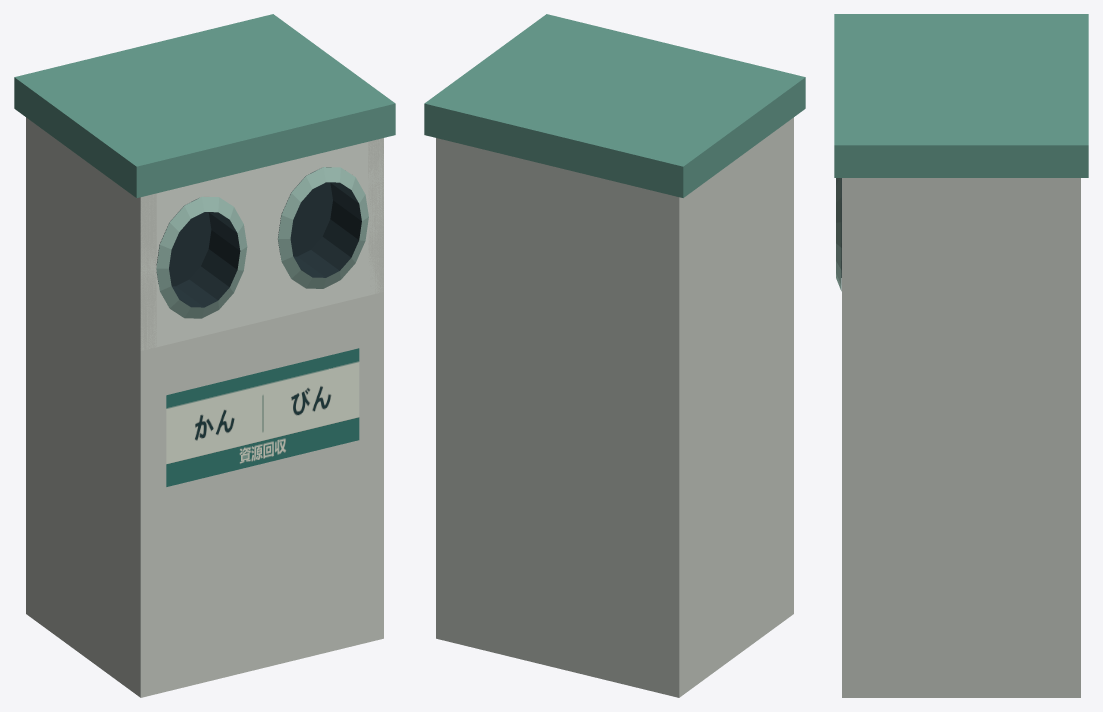
Rendered from prop-recycle-bin.glb.
The picture shows the model from 3 angles, left to right: view 1: azimuth 30°, elevation 25°; view 2: azimuth 150°, elevation 25°; view 3: azimuth 270°, elevation 25°; orthographic projection. The views are drawn at different scales.
Parts seen in each view (by area): view 1: bin-body, bin-lid, bin-panel, bin-label, bin-wells, bin-rims; view 2: bin-body, bin-lid; view 3: bin-body, bin-lid, bin-rims.
Boxes of the visible parts, bbox=[...] form: bin-body: bbox=[26, 117, 383, 697]; bin-lid: bbox=[14, 14, 395, 197]; bin-panel: bbox=[140, 138, 383, 350]; bin-label: bbox=[166, 348, 359, 486]; bin-wells: bbox=[156, 170, 361, 307]; bin-rims: bbox=[156, 167, 368, 318]; bin-body: bbox=[436, 117, 793, 697]; bin-lid: bbox=[424, 14, 805, 197]; bin-body: bbox=[842, 178, 1080, 697]; bin-lid: bbox=[834, 14, 1088, 177]; bin-rims: bbox=[836, 178, 841, 291].
Size of the model in its own units: 0.44 by 0.87 by 0.36.
Materials: 6 (1 with a texture image).
